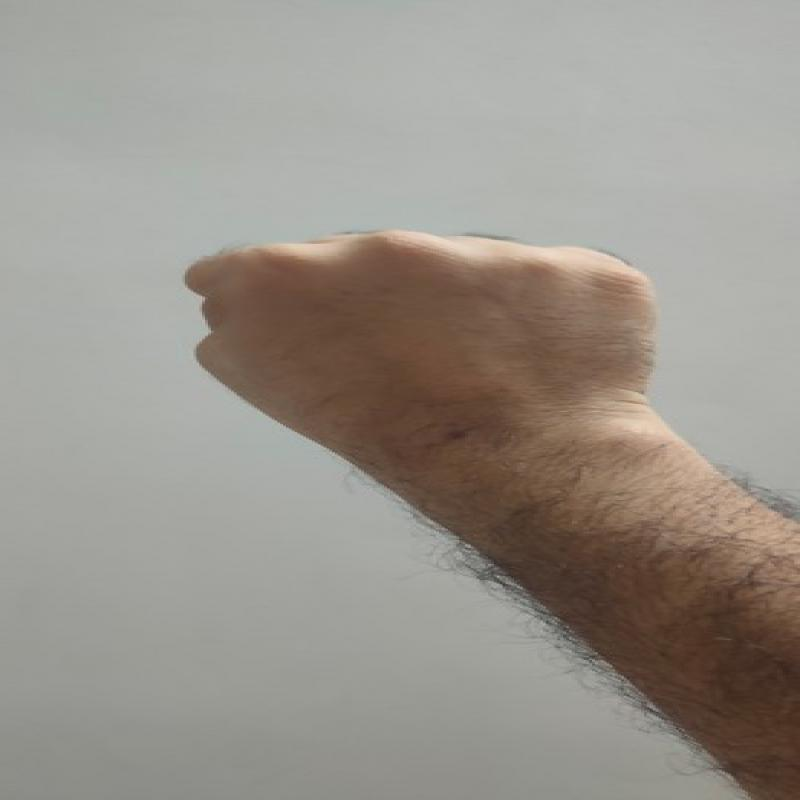Mushti: (171, 202, 695, 446)
